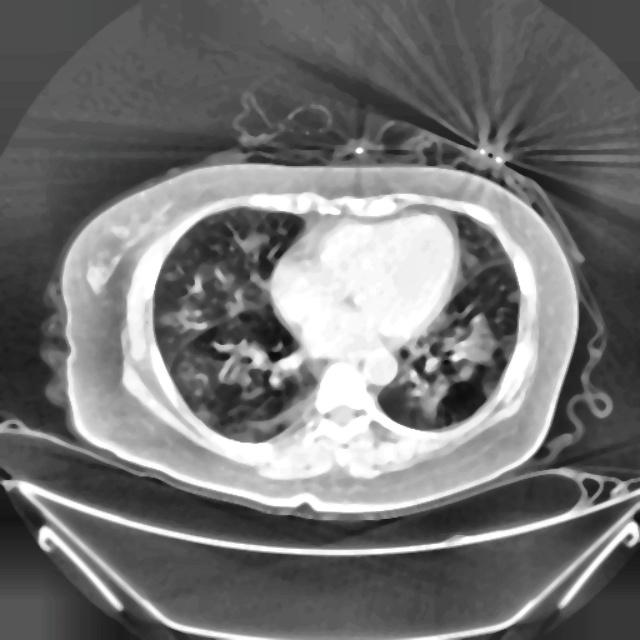covid: (46, 150, 582, 521)
